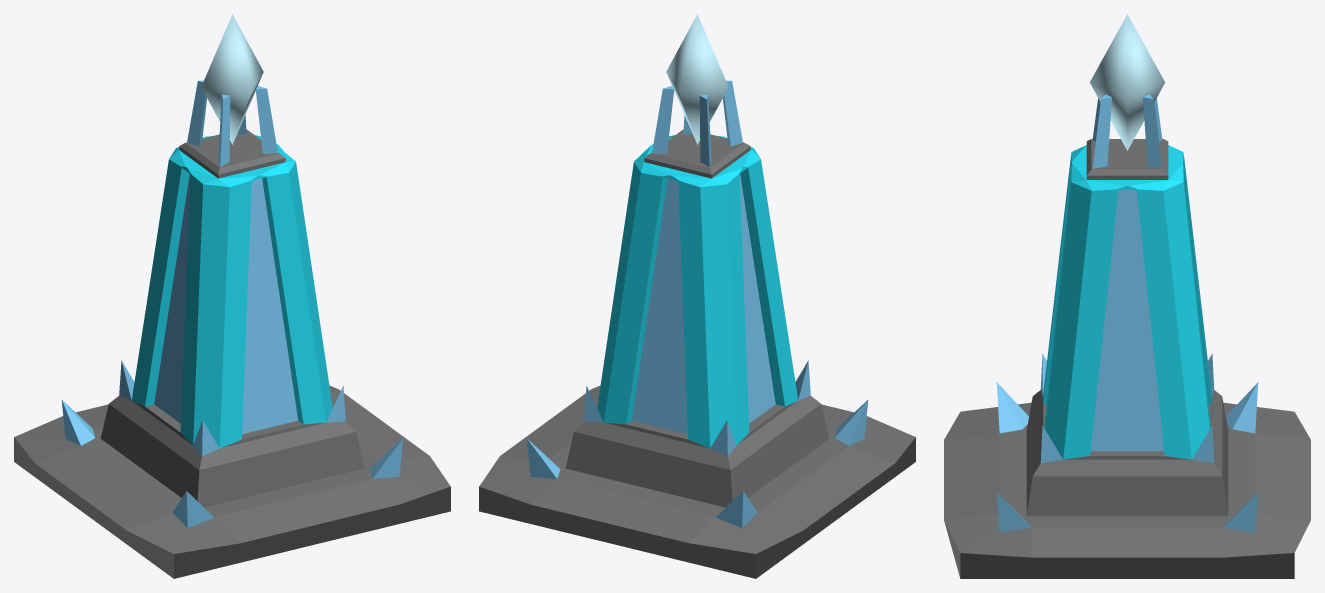
File: SlowTower.fbx
The picture shows the model from 3 angles, left to right: view 1: azimuth 30°, elevation 25°; view 2: azimuth 150°, elevation 25°; view 3: azimuth 270°, elevation 25°; orthographic projection. The views are drawn at different scales.
Visible parts, largest first — view 1: SlowTowerBody, SlowCrystal; view 2: SlowTowerBody, SlowCrystal; view 3: SlowTowerBody, SlowCrystal.
Part boxes in pixels (bbox=[...]): SlowTowerBody: bbox=[14, 80, 450, 578]; SlowCrystal: bbox=[201, 14, 263, 144]; SlowTowerBody: bbox=[479, 80, 915, 578]; SlowCrystal: bbox=[666, 14, 728, 144]; SlowTowerBody: bbox=[944, 94, 1310, 578]; SlowCrystal: bbox=[1090, 14, 1164, 150].
Size of the model in its own units: 2.87 by 2.87 by 4.27.
2 materials, 2 textured.
